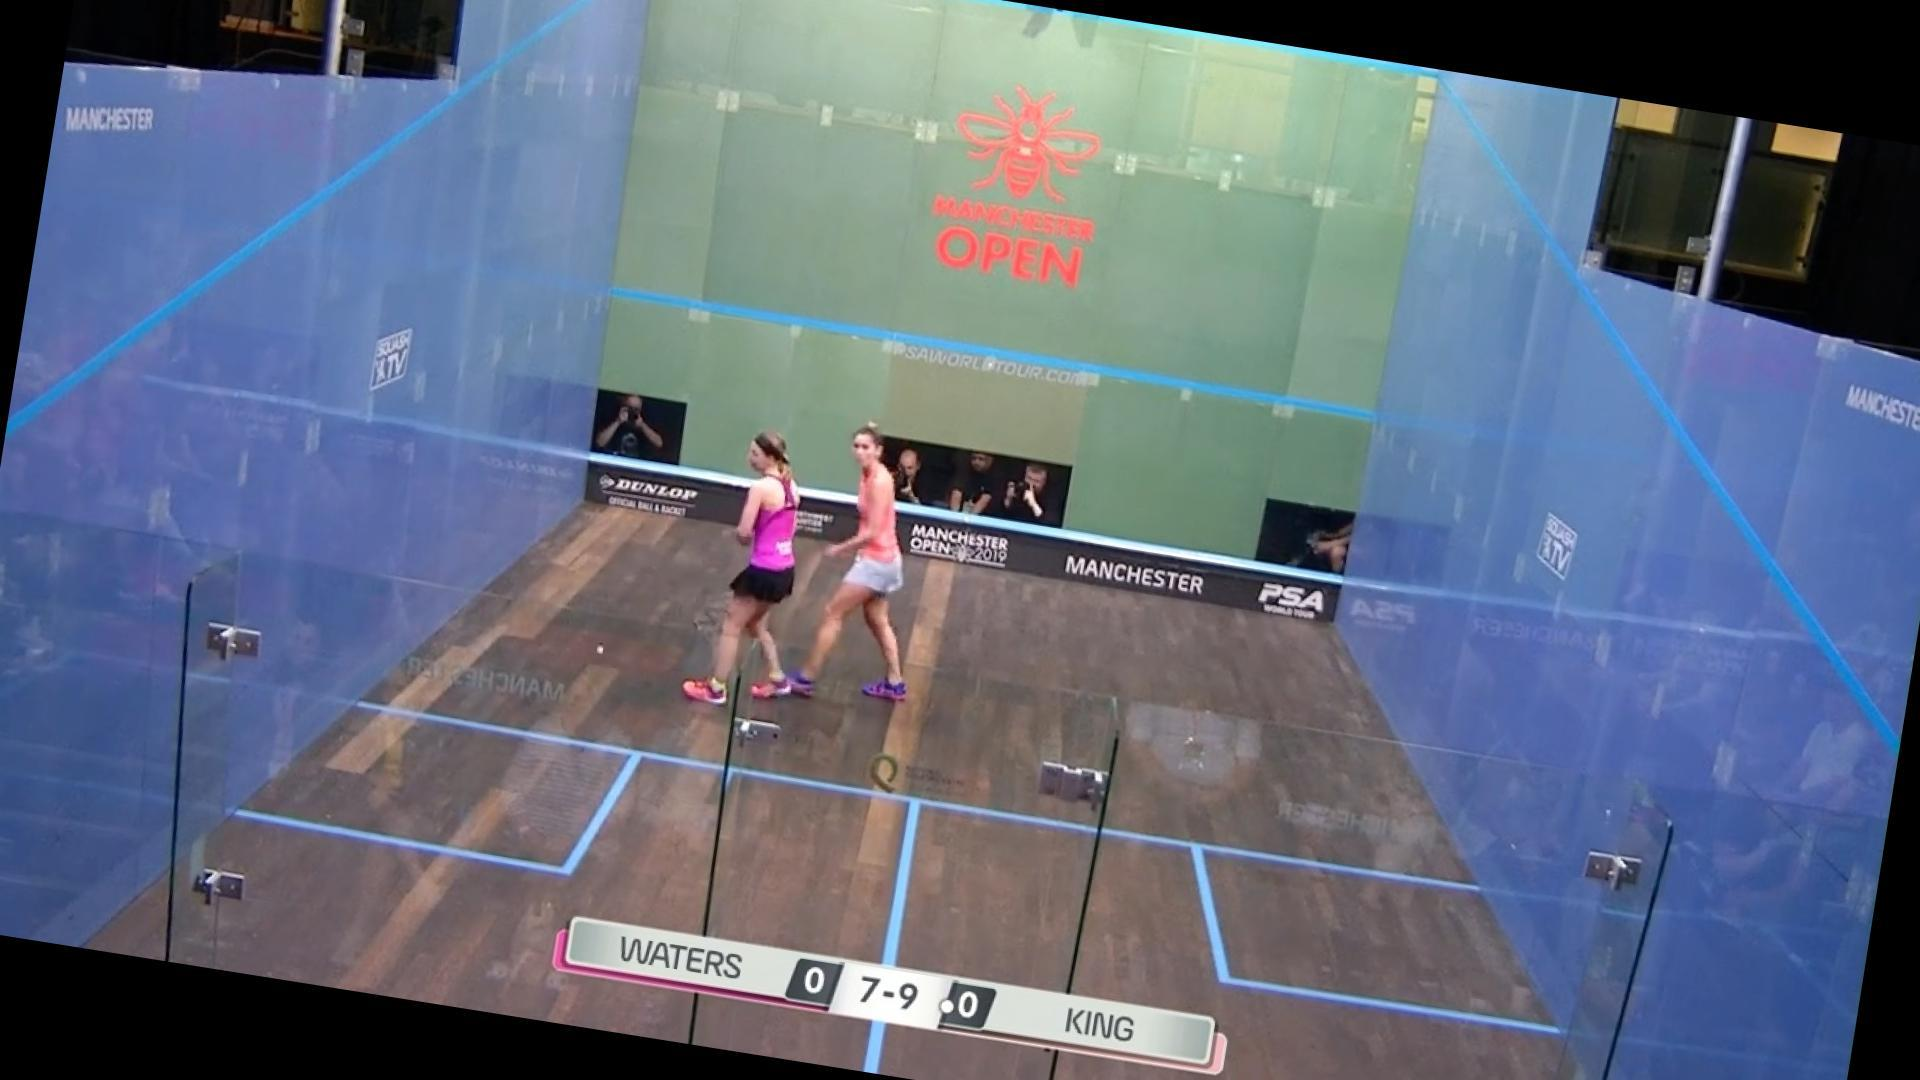Squash-Ball: (578, 625, 636, 691)
